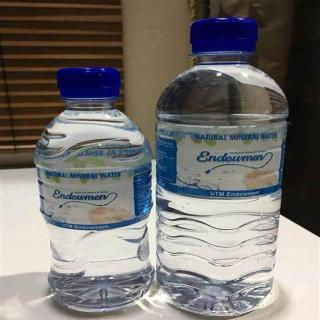Anorganik: (160, 11, 286, 320), (31, 63, 153, 311)
